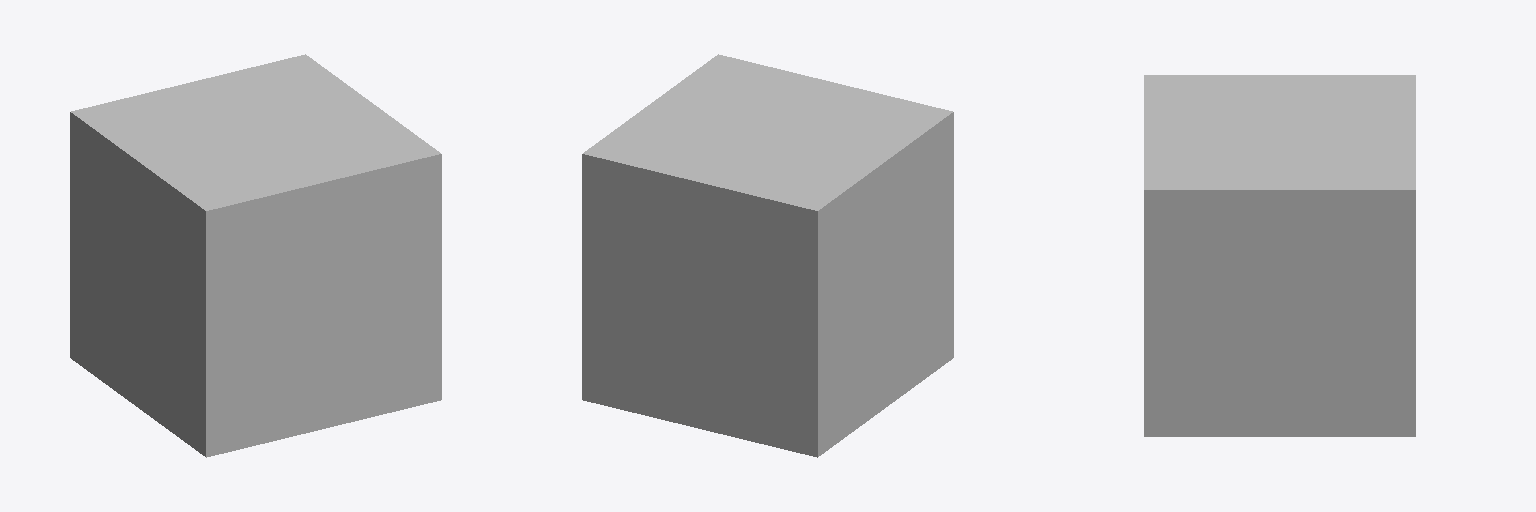
The model's file is cube_nobottom.obj.
3 views of the same model, side by side, from view 1: azimuth 30°, elevation 25°; view 2: azimuth 150°, elevation 25°; view 3: azimuth 270°, elevation 25° (orthographic).
Parts seen in each view (by area): view 1: cube:pCube1; view 2: cube:pCube1; view 3: cube:pCube1.
Part boxes in pixels (x1,y1,x2,y2): cube:pCube1: (70,54,441,457); cube:pCube1: (582,54,953,457); cube:pCube1: (1144,75,1415,436).
Size of the model in its own units: 1.95 by 1.95 by 1.95.